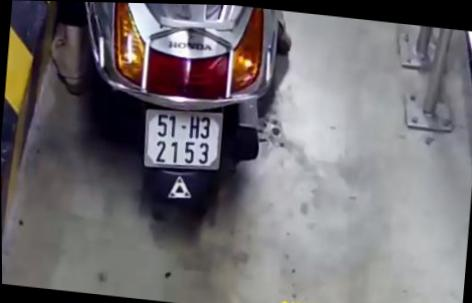LP: (140, 106, 223, 170)
